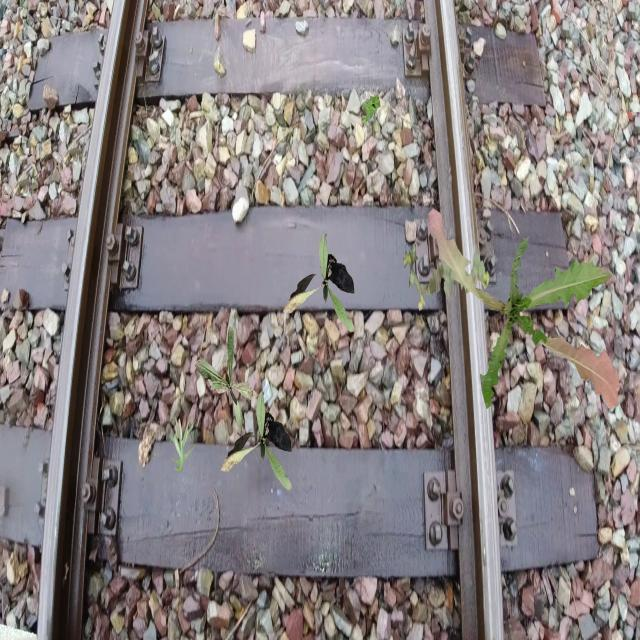Plant: (428, 208, 620, 410), (220, 391, 292, 491), (195, 326, 259, 438), (283, 233, 354, 332), (403, 242, 490, 310), (169, 416, 196, 472), (361, 92, 381, 124)
